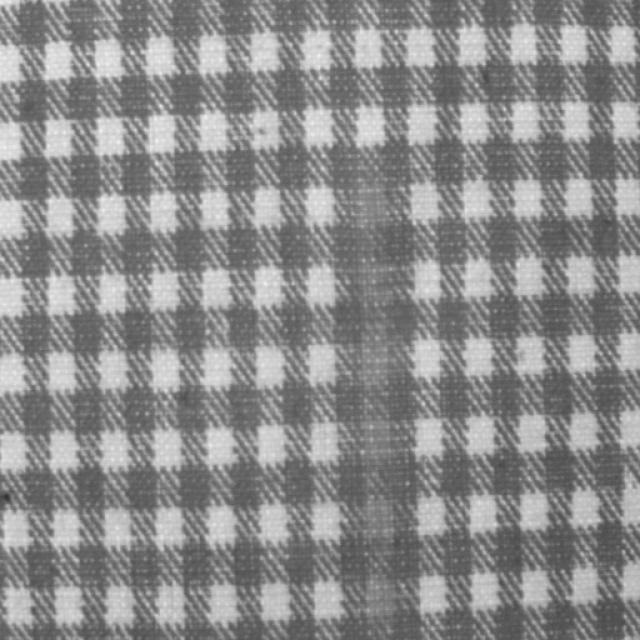Stain-Defect: (354, 186, 396, 639)
